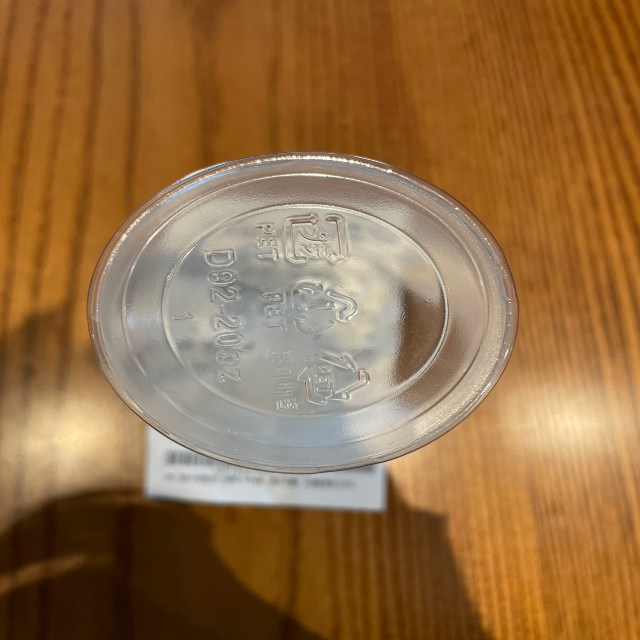pet: (247, 203, 356, 273), (266, 344, 374, 412), (258, 275, 367, 342)
